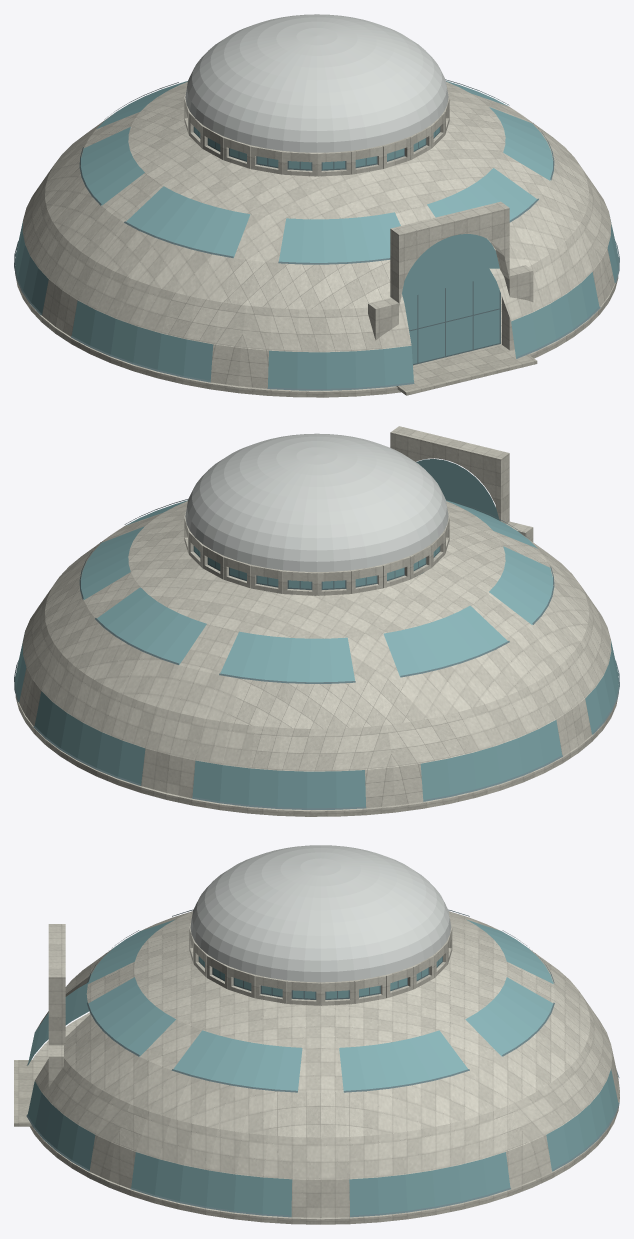
The picture shows the model from 3 angles, top to bottom: view 1: azimuth 30°, elevation 25°; view 2: azimuth 150°, elevation 25°; view 3: azimuth 270°, elevation 25°; orthographic projection.
Parts seen in each view (by area): view 1: observatory__stone, observatory__glass, observatory__roof, observatory__frame, observatory__threshold; view 2: observatory__stone, observatory__glass, observatory__roof, observatory__frame; view 3: observatory__stone, observatory__glass, observatory__roof, observatory__frame, observatory__threshold.
Boxes of the visible parts, x1,y1,x2,y2 form: observatory__stone: [15, 81, 618, 397]; observatory__glass: [15, 81, 618, 388]; observatory__roof: [185, 14, 448, 152]; observatory__frame: [14, 79, 619, 390]; observatory__threshold: [396, 341, 537, 395]; observatory__stone: [15, 426, 618, 816]; observatory__glass: [15, 459, 618, 808]; observatory__roof: [185, 433, 448, 571]; observatory__frame: [14, 498, 619, 809]; observatory__stone: [30, 911, 619, 1224]; observatory__glass: [27, 919, 618, 1216]; observatory__roof: [190, 845, 451, 982]; observatory__frame: [26, 909, 619, 1217]; observatory__threshold: [14, 1060, 47, 1126].
Bounding box in the file's own units: 31.2 × 13.35 × 31.6.
5 materials, 2 textured.
